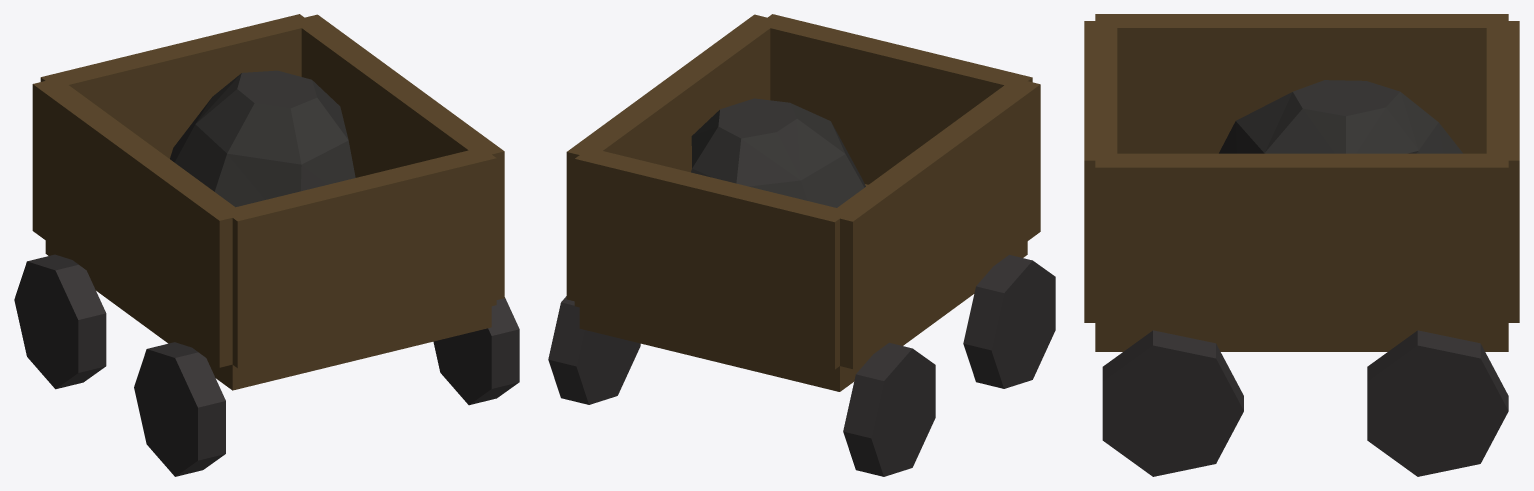
The model's file is ore_cart.glb.
3 renders of one model, left to right at view 1: azimuth 30°, elevation 25°; view 2: azimuth 150°, elevation 25°; view 3: azimuth 270°, elevation 25°, orthographic. The views are drawn at different scales.
Parts seen in each view (by area): view 1: ore_cart; view 2: ore_cart; view 3: ore_cart.
Part boxes in pixels (x1,y1,x2,y2): ore_cart: (14, 14, 519, 476); ore_cart: (548, 14, 1055, 476); ore_cart: (1084, 14, 1519, 476).
Size of the model in its own units: 1.49 by 1.23 by 1.58.
